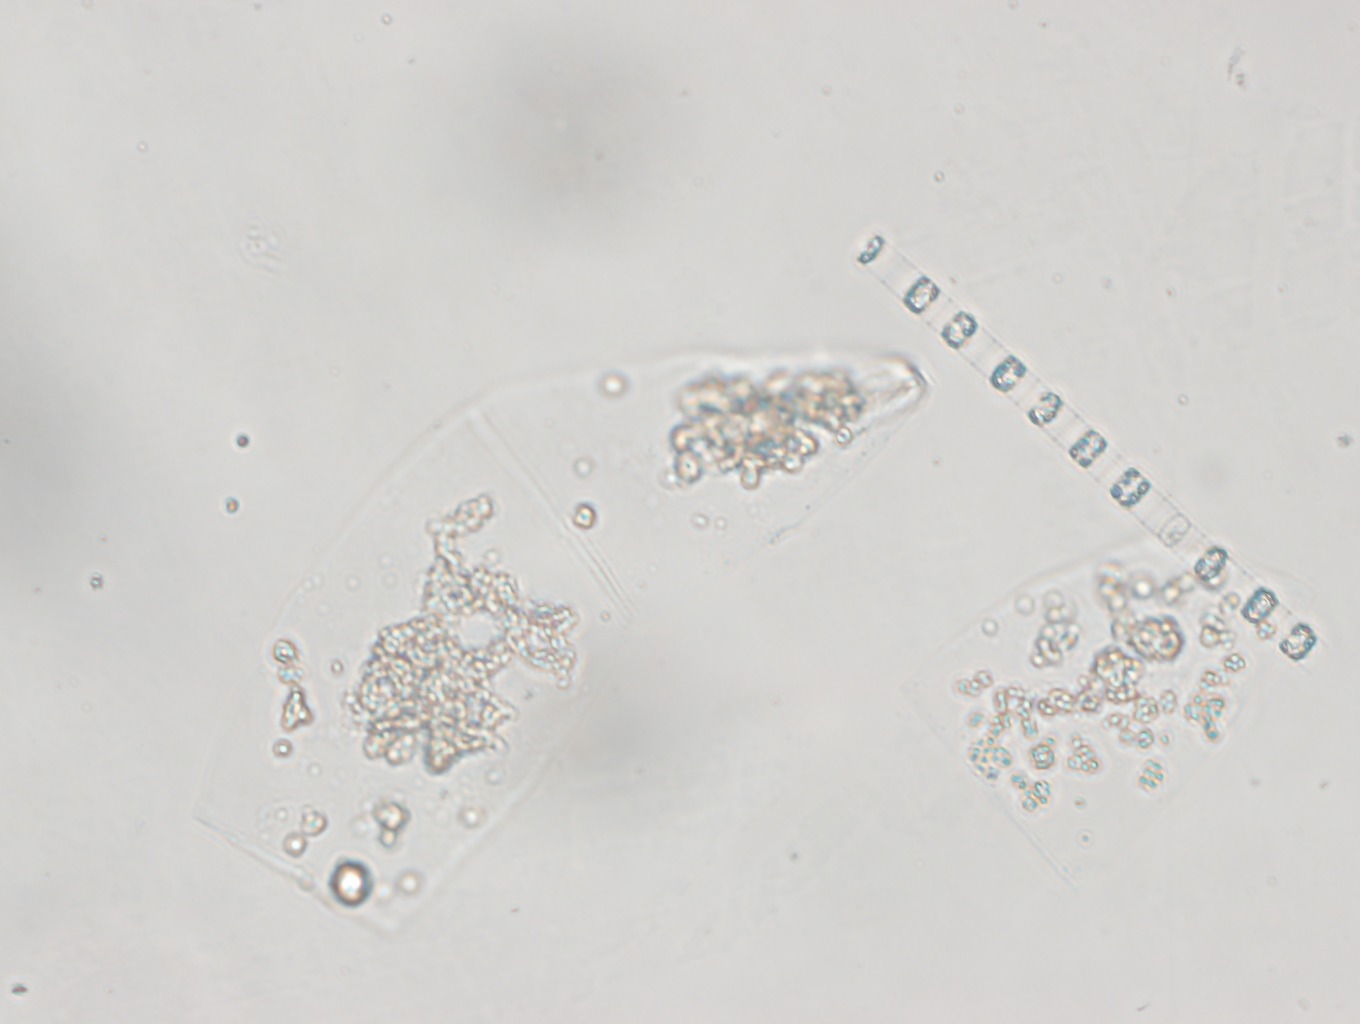helicotheca: (186, 335, 933, 939), (943, 525, 1325, 901)
skeletonema: (853, 218, 1328, 669)
